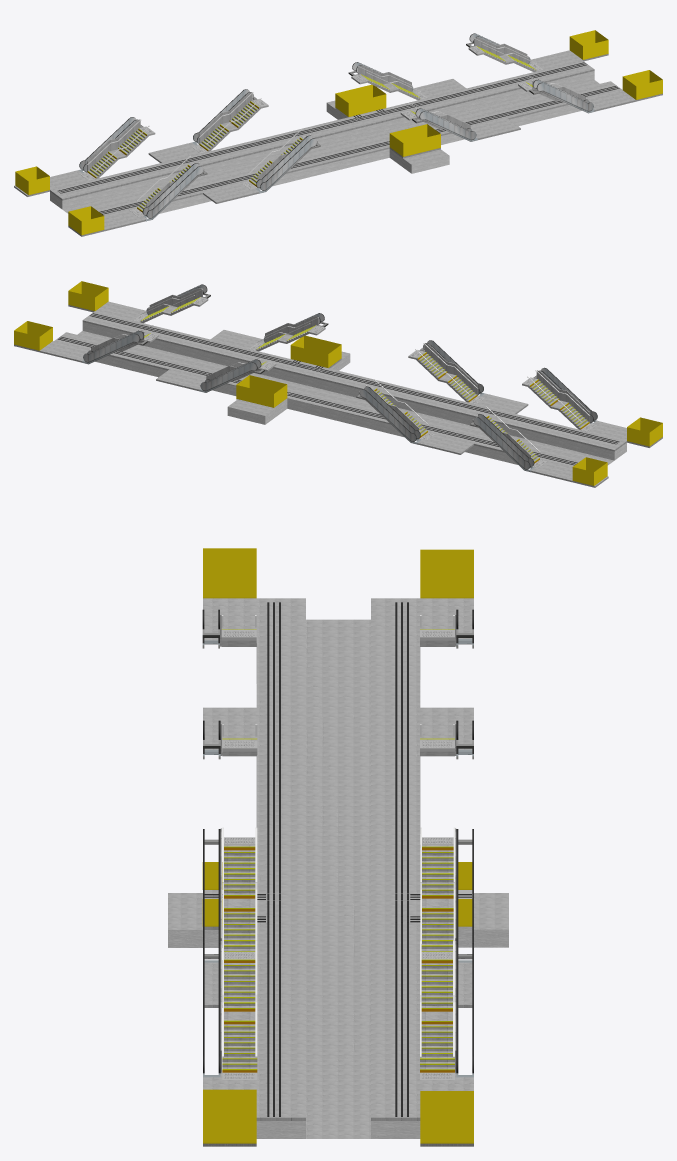
File: Mezzanine incendie.fbx
3 renders of one model, top to bottom at view 1: azimuth 30°, elevation 25°; view 2: azimuth 150°, elevation 25°; view 3: azimuth 270°, elevation 25°, orthographic. The views are drawn at different scales.
Parts seen in each view (by area): view 1: Plane.027, Cube, bandes podotactile, Cube.002, Cube.004, Cube.016, Cube.009, Cube.018, Cube.019, Cube.007, Cube.014, Cube.001; view 2: Plane.027, Cube, bandes podotactile, Cube.001, Cube.003, Cube.015, Cube.008, Cube.017, Cube.020, Cube.012, Cube.013, Cube.002; view 3: Plane.027, Cube, bandes podotactile, Cube.013, Cube.014, Cube.012, Cube.007.
Boxes of the visible parts, box(x1,y1,x2,y2) form: Plane.027: box(14, 33, 662, 236); Cube: box(15, 30, 662, 235); bandes podotactile: box(58, 62, 619, 214); Cube.002: box(198, 92, 261, 151); Cube.004: box(87, 119, 149, 178); Cube.016: box(87, 119, 140, 172); Cube.009: box(199, 92, 252, 144); Cube.018: box(358, 65, 411, 91); Cube.019: box(474, 37, 527, 63); Cube.007: box(358, 66, 420, 100); Cube.014: box(474, 38, 536, 71); Cube.001: box(248, 128, 310, 187); Plane.027: box(14, 284, 662, 487); Cube: box(14, 281, 662, 485); bandes podotactile: box(58, 313, 619, 465); Cube.001: box(415, 343, 478, 402); Cube.003: box(527, 370, 589, 429); Cube.015: box(536, 370, 589, 422); Cube.008: box(424, 343, 477, 395); Cube.017: box(265, 316, 318, 342); Cube.020: box(149, 288, 202, 314); Cube.012: box(256, 317, 318, 351); Cube.013: box(140, 289, 202, 323); Cube.002: box(366, 379, 428, 438); Plane.027: box(168, 598, 508, 1146); Cube: box(202, 548, 473, 1143); bandes podotactile: box(204, 602, 471, 1116); Cube.013: box(222, 940, 257, 1072); Cube.014: box(420, 940, 454, 1072); Cube.012: box(222, 827, 257, 951); Cube.007: box(420, 827, 454, 951).
Size of the model in its own units: 15360 by 1277 by 3899.
